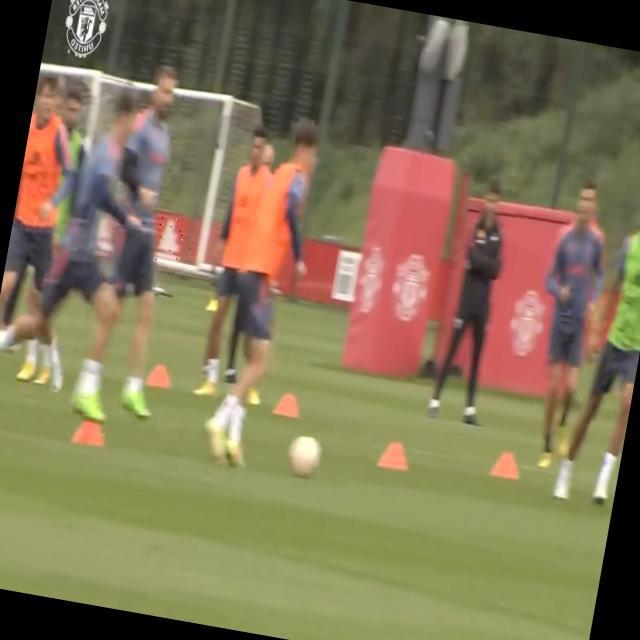Adidas: (152, 215, 185, 267)
